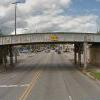Bridge: (4, 25, 95, 58)
